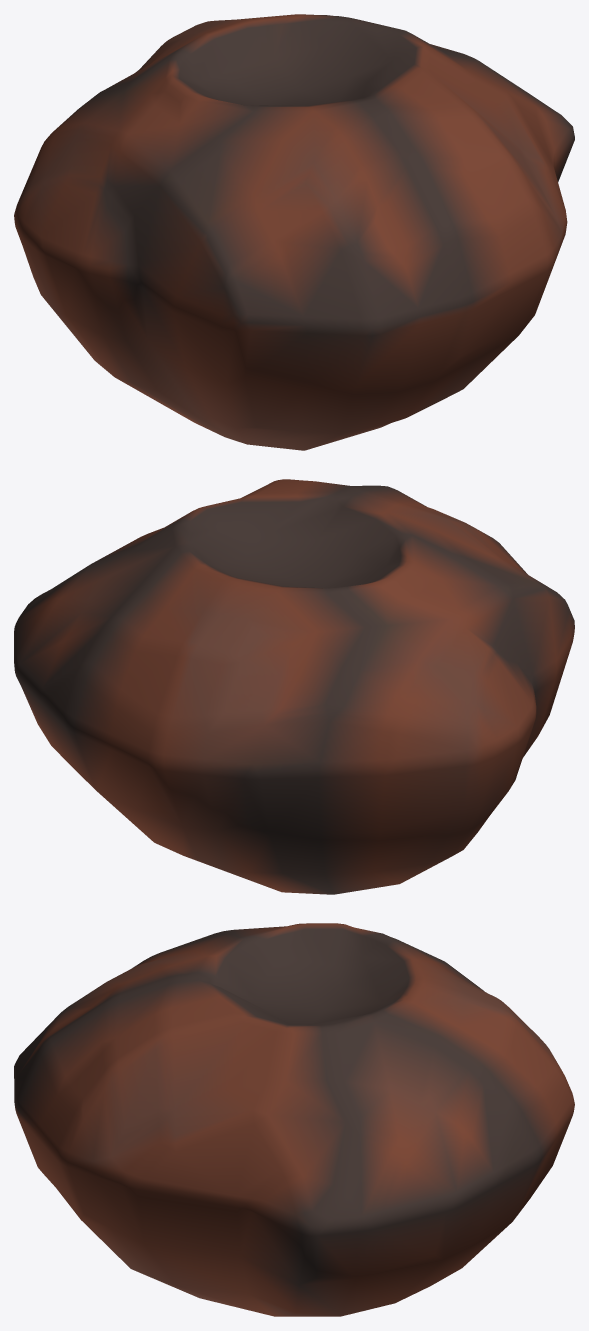
The model's file is FireRock.fbx.
3 views of the same model, one above another, from view 1: azimuth 30°, elevation 25°; view 2: azimuth 150°, elevation 25°; view 3: azimuth 270°, elevation 25° (orthographic). The views are drawn at different scales.
Visible parts, largest first — view 1: Vert; view 2: Vert; view 3: Vert.
Boxes of the visible parts, x1=… form: Vert: x1=14, y1=14, x2=574, y2=450; Vert: x1=14, y1=479, x2=574, y2=894; Vert: x1=14, y1=923, x2=574, y2=1316.
Bounding box in the file's own units: 119 × 77.28 × 116.
